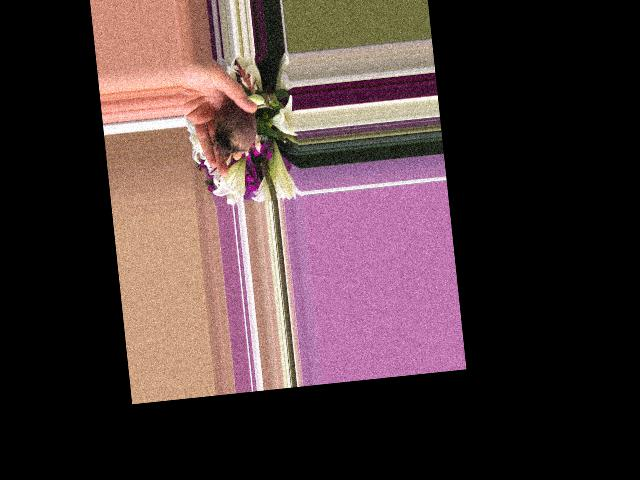beet: (211, 96, 279, 158)
